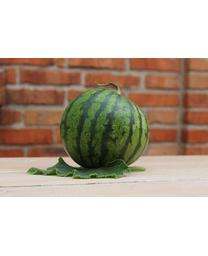watermelon: (58, 88, 151, 171)
